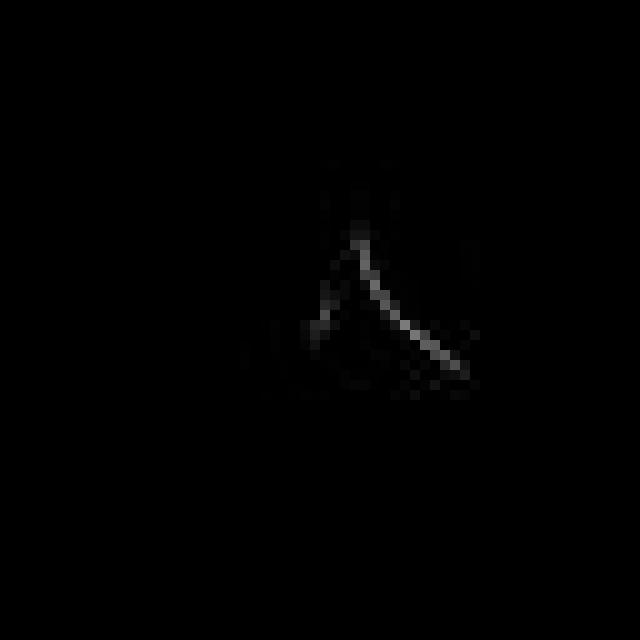8 -eight-: (296, 235, 473, 386)
